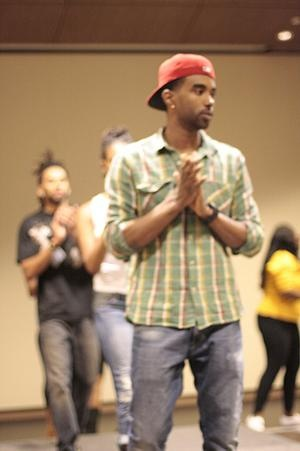person without safety: (109, 47, 265, 451)
